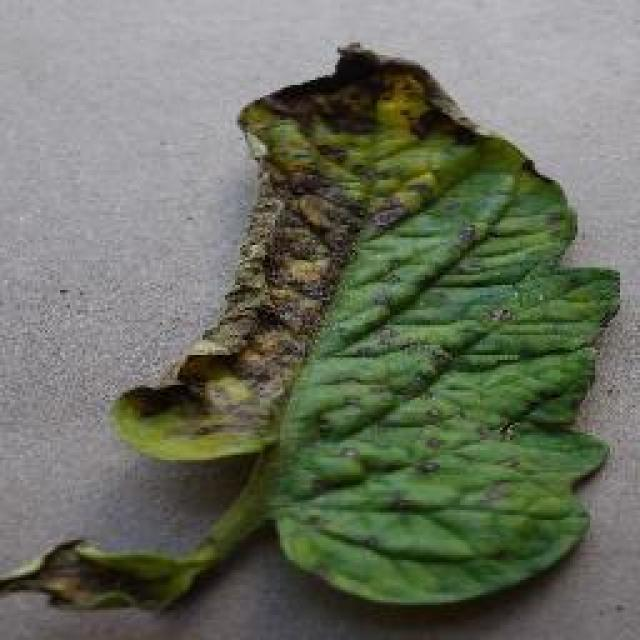Tomato Early blight leaf: (69, 45, 611, 623)
